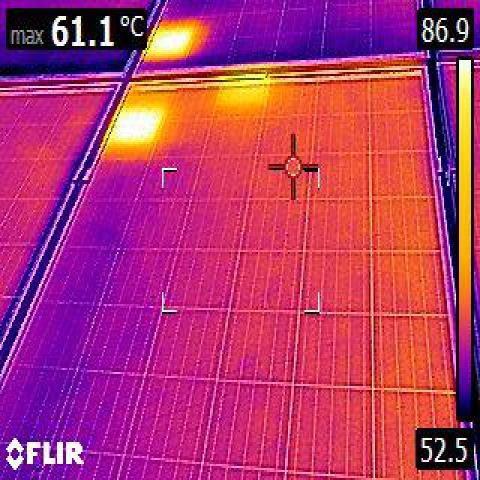fault: (117, 109, 160, 147), (154, 28, 192, 58)
